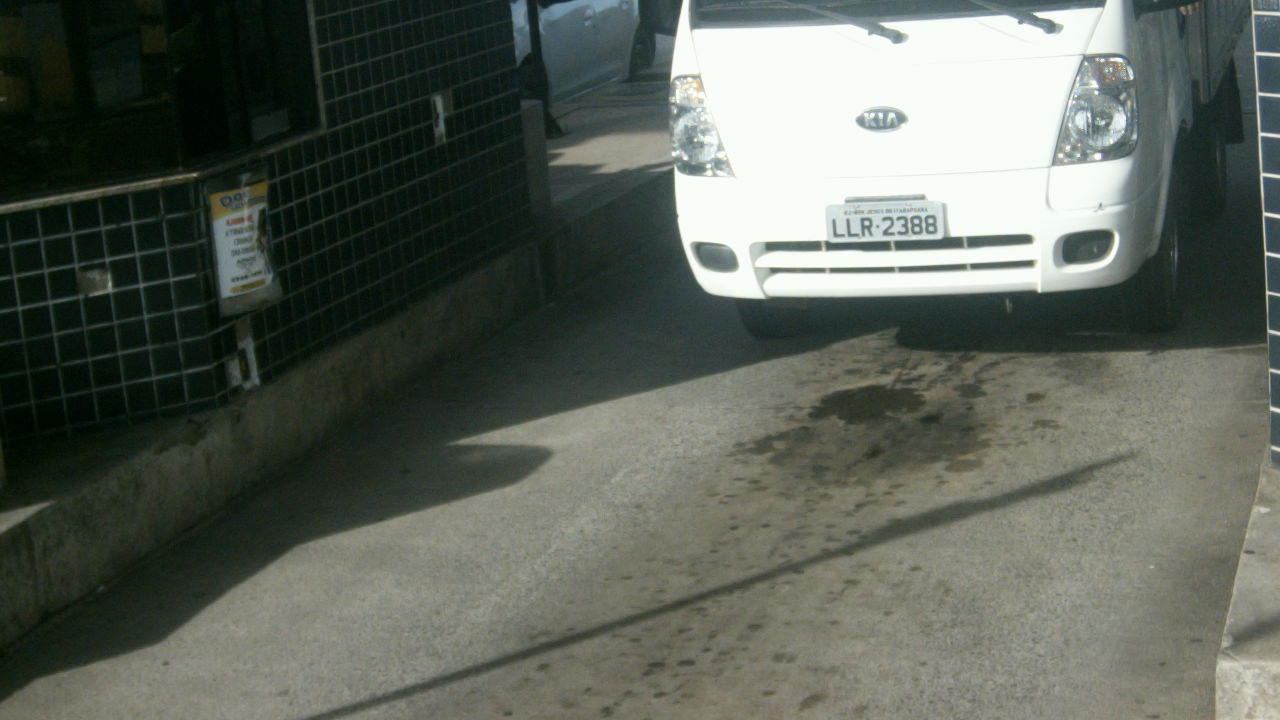placa: (826, 201, 944, 244)
